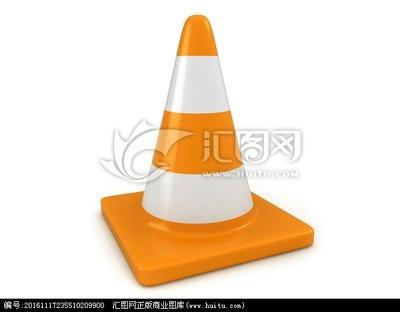cone_barrel: (135, 13, 264, 234)
